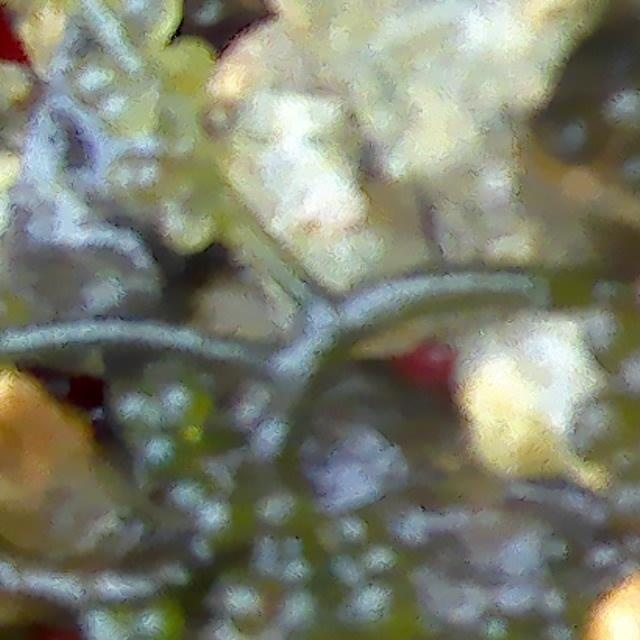SeaGrape: (213, 580, 278, 639), (119, 0, 184, 51), (190, 0, 248, 47)
